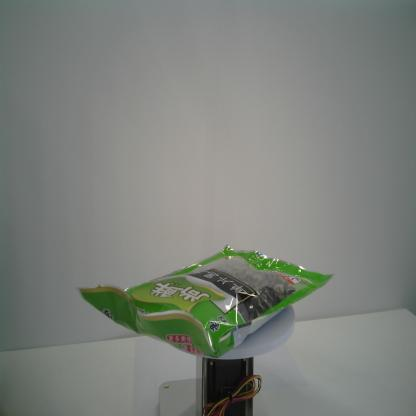Dried Food: (76, 243, 335, 359)
